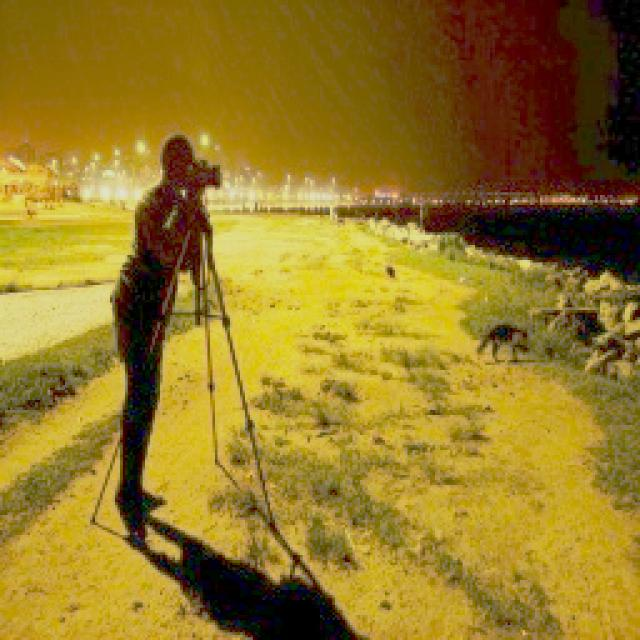cat: (468, 318, 535, 369)
